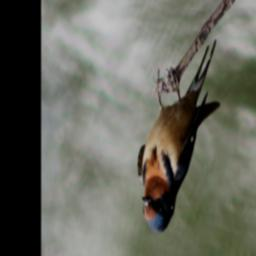Swallow: (135, 38, 217, 234)
